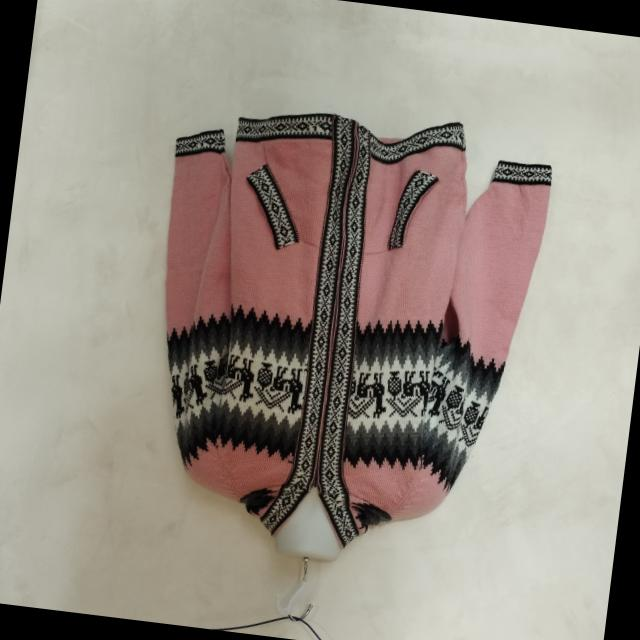Chompa: (127, 89, 558, 580)
